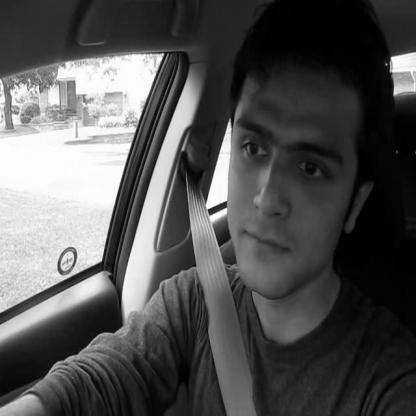seatbelt: (137, 0, 375, 416)
